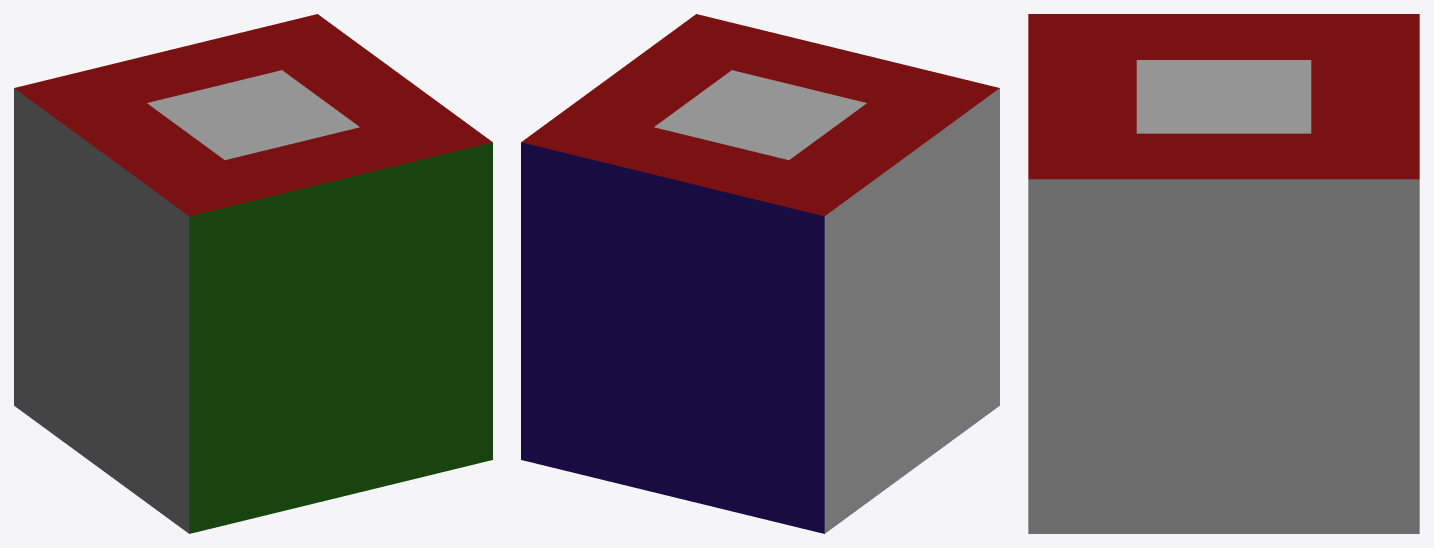
Rendered from scene-mirror-with-light2.obj.
3 views of the same model, side by side, from view 1: azimuth 30°, elevation 25°; view 2: azimuth 150°, elevation 25°; view 3: azimuth 270°, elevation 25° (orthographic). The views are drawn at different scales.
Parts seen in each view (by area): view 1: Cube.001; view 2: Cube.001; view 3: Cube.001.
Part boxes in pixels (bbox=[...]): Cube.001: bbox=[14, 14, 492, 533]; Cube.001: bbox=[521, 14, 999, 533]; Cube.001: bbox=[1028, 14, 1419, 533].
Bounding box in the file's own units: 2 × 2 × 2.
